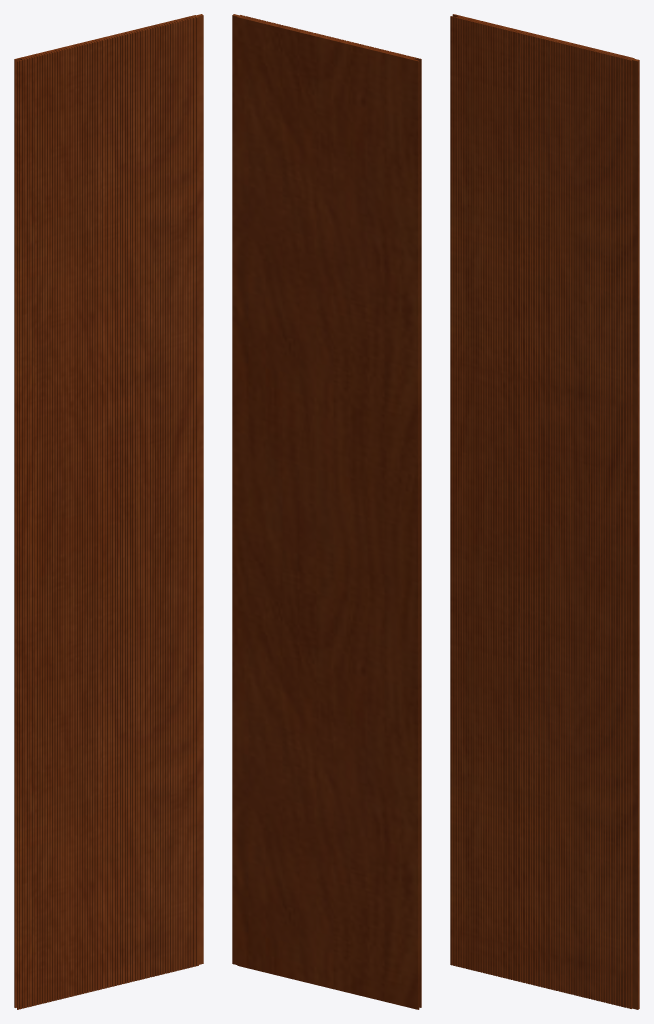
Rendered from DSA8.glb.
The picture shows the model from 3 angles, left to right: view 1: azimuth 30°, elevation 25°; view 2: azimuth 150°, elevation 25°; view 3: azimuth 330°, elevation 25°; orthographic projection.
Parts seen in each view (by area): view 1: 4349; view 2: 4349; view 3: 4349.
Part boxes in pixels (left/top/right/bottom): 4349: left=14, top=14, right=203, bottom=1009; 4349: left=232, top=14, right=421, bottom=1009; 4349: left=450, top=14, right=639, bottom=1009.
Size of the model in its own units: 0.6286 by 3.05 by 0.019.
Materials: 304 (304 with a texture image).
